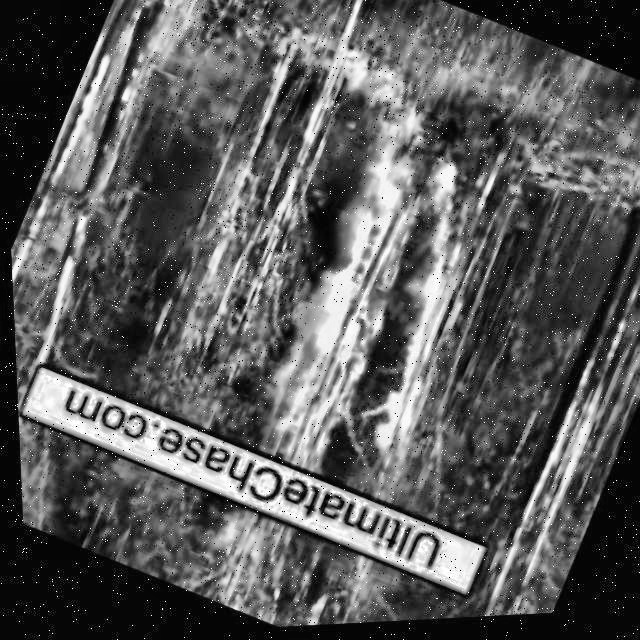Fire: (201, 98, 528, 509), (300, 30, 430, 139), (186, 502, 287, 611)
